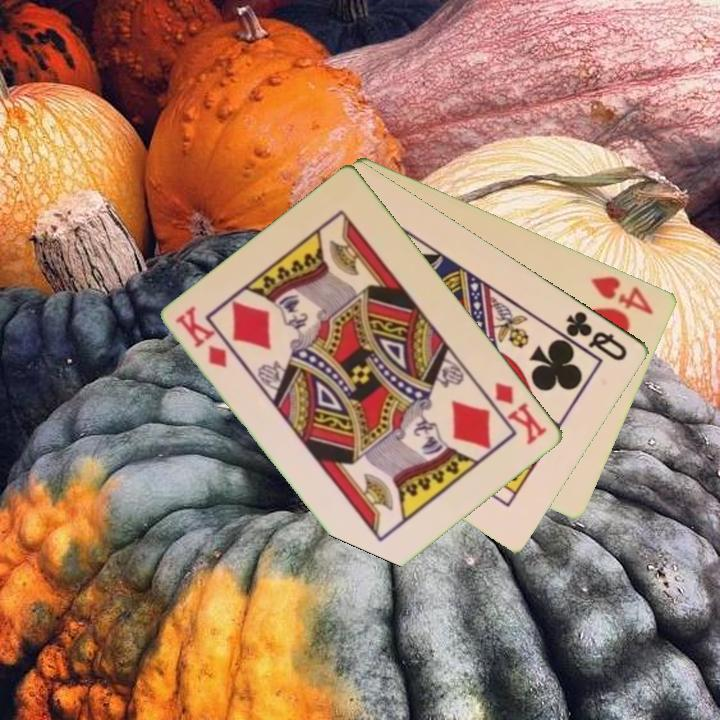4h: (587, 272, 658, 318)
Kd: (491, 378, 551, 448), (172, 302, 231, 371)
Qc: (562, 307, 631, 364)
